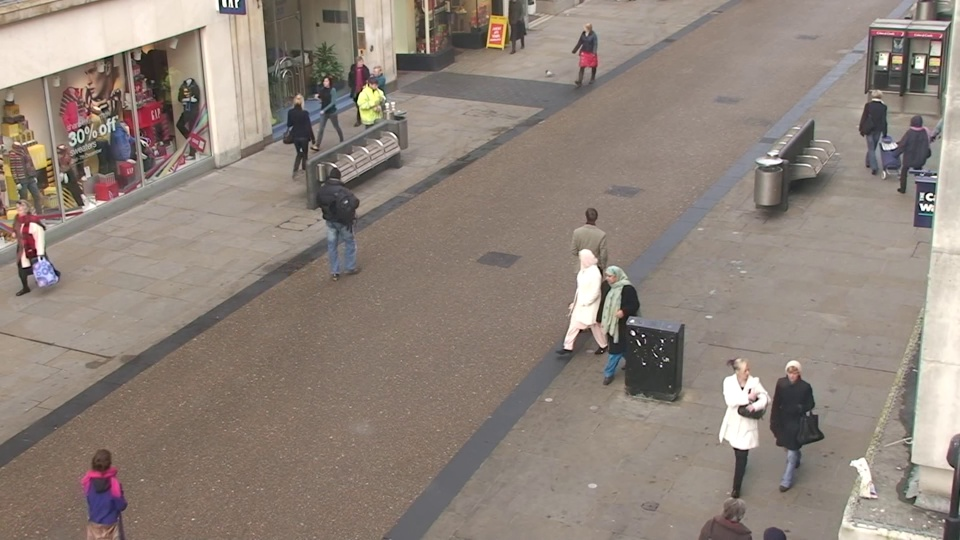pedestrian: (761, 350, 819, 508), (711, 349, 767, 506), (73, 435, 148, 540), (2, 194, 59, 309), (592, 259, 635, 393), (565, 242, 607, 372), (574, 203, 612, 323), (310, 169, 350, 279), (889, 111, 933, 209), (698, 479, 763, 540), (855, 87, 894, 177), (285, 90, 318, 177), (359, 73, 389, 156), (316, 71, 346, 153), (365, 62, 394, 142), (347, 53, 376, 131), (576, 20, 600, 89)
